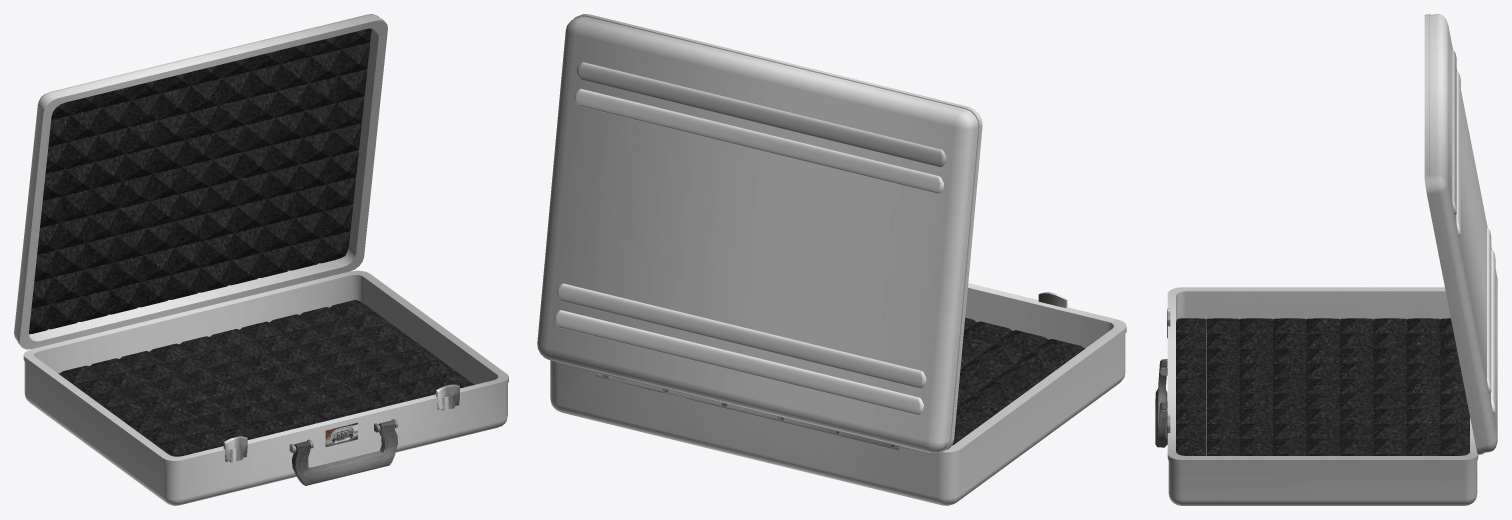
File: Briefcase_open_empty.fbx
3 renders of one model, left to right at view 1: azimuth 30°, elevation 25°; view 2: azimuth 150°, elevation 25°; view 3: azimuth 270°, elevation 25°, orthographic. The views are drawn at different scales.
Parts seen in each view (by area): view 1: Top_Foam, Bottom_Foam; view 2: Top_Foam, Bottom_Foam; view 3: Bottom_Foam, Top_Foam.
Boxes of the visible parts, left/top/right/bottom form: Top_Foam: left=14, top=14, right=387, bottom=349; Bottom_Foam: left=23, top=270, right=508, bottom=505; Top_Foam: left=537, top=14, right=982, bottom=453; Bottom_Foam: left=550, top=283, right=1126, bottom=505; Bottom_Foam: left=1155, top=287, right=1478, bottom=505; Top_Foam: left=1424, top=14, right=1497, bottom=454.
Bounding box in the file's own units: 63.47 × 56.89 × 53.18.
1 material, 1 textured.
